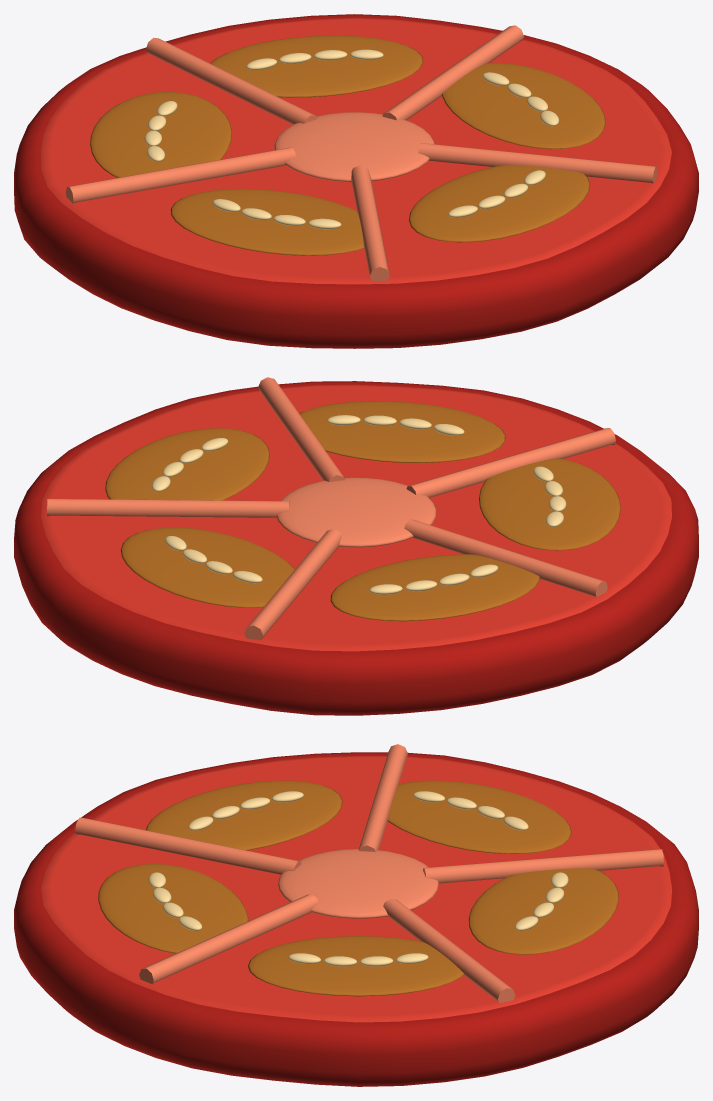
File: item_tomato.glb
3 views of the same model, one above another, from view 1: azimuth 30°, elevation 25°; view 2: azimuth 150°, elevation 25°; view 3: azimuth 270°, elevation 25° (orthographic).
Parts seen in each view (by area): view 1: 赤い薄皮; view 2: 赤い薄皮; view 3: 赤い薄皮.
Part boxes in pixels (box(x1,y1,x2,y2)): 赤い薄皮: box(14, 14, 698, 348); 赤い薄皮: box(14, 377, 698, 715); 赤い薄皮: box(14, 744, 698, 1086).
Size of the model in its own units: 1.02 by 0.126 by 1.02.
